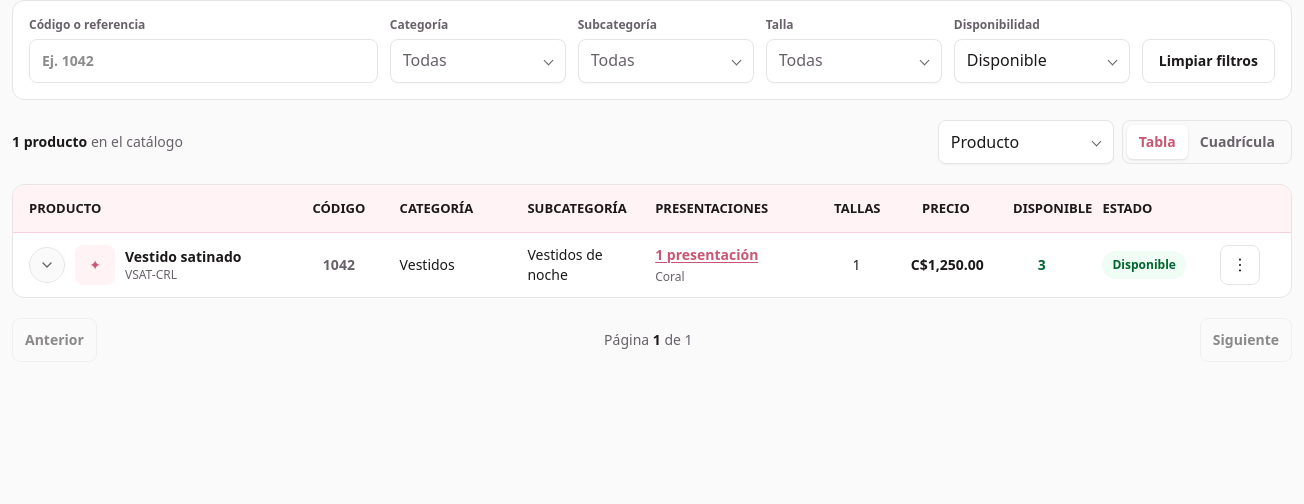
Scenario: ProductsPage › expands product details inline with presentation, size, cost, and stock
Click the button named "Ver detalles de Vestido satinado" at (47, 265), box top-left (29, 247), bottom-right (65, 283)
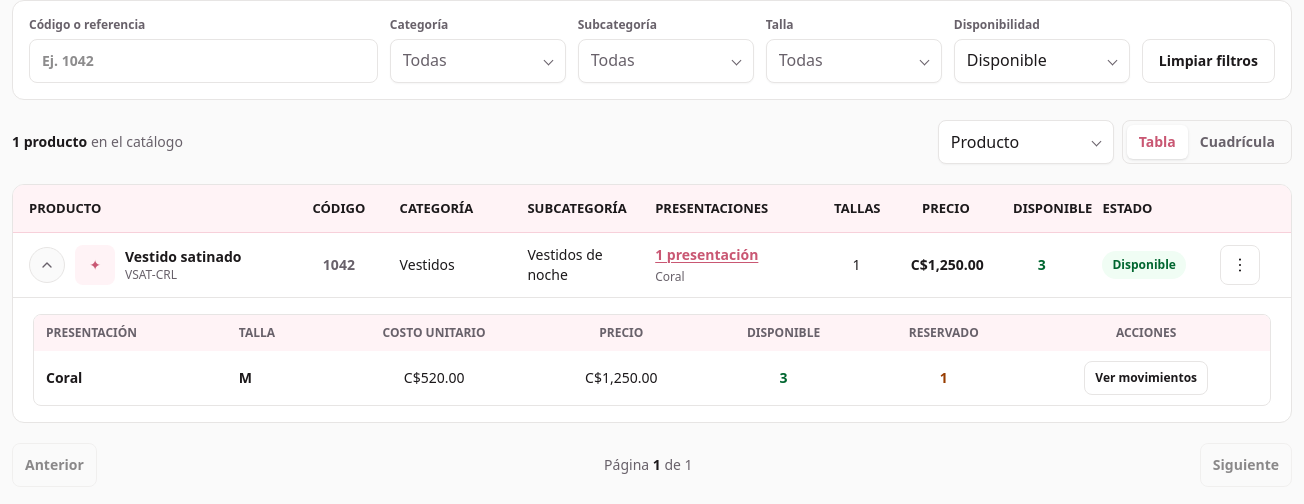
Check: the table named "Variantes de Vestido satinado" shows "Coral", box top-left (46, 368), bottom-right (82, 387)
Check: the table named "Variantes de Vestido satinado" shows "M", box top-left (239, 368), bottom-right (252, 387)
Check: the table named "Variantes de Vestido satinado" shows "C$520.00", box top-left (404, 368), bottom-right (464, 387)
